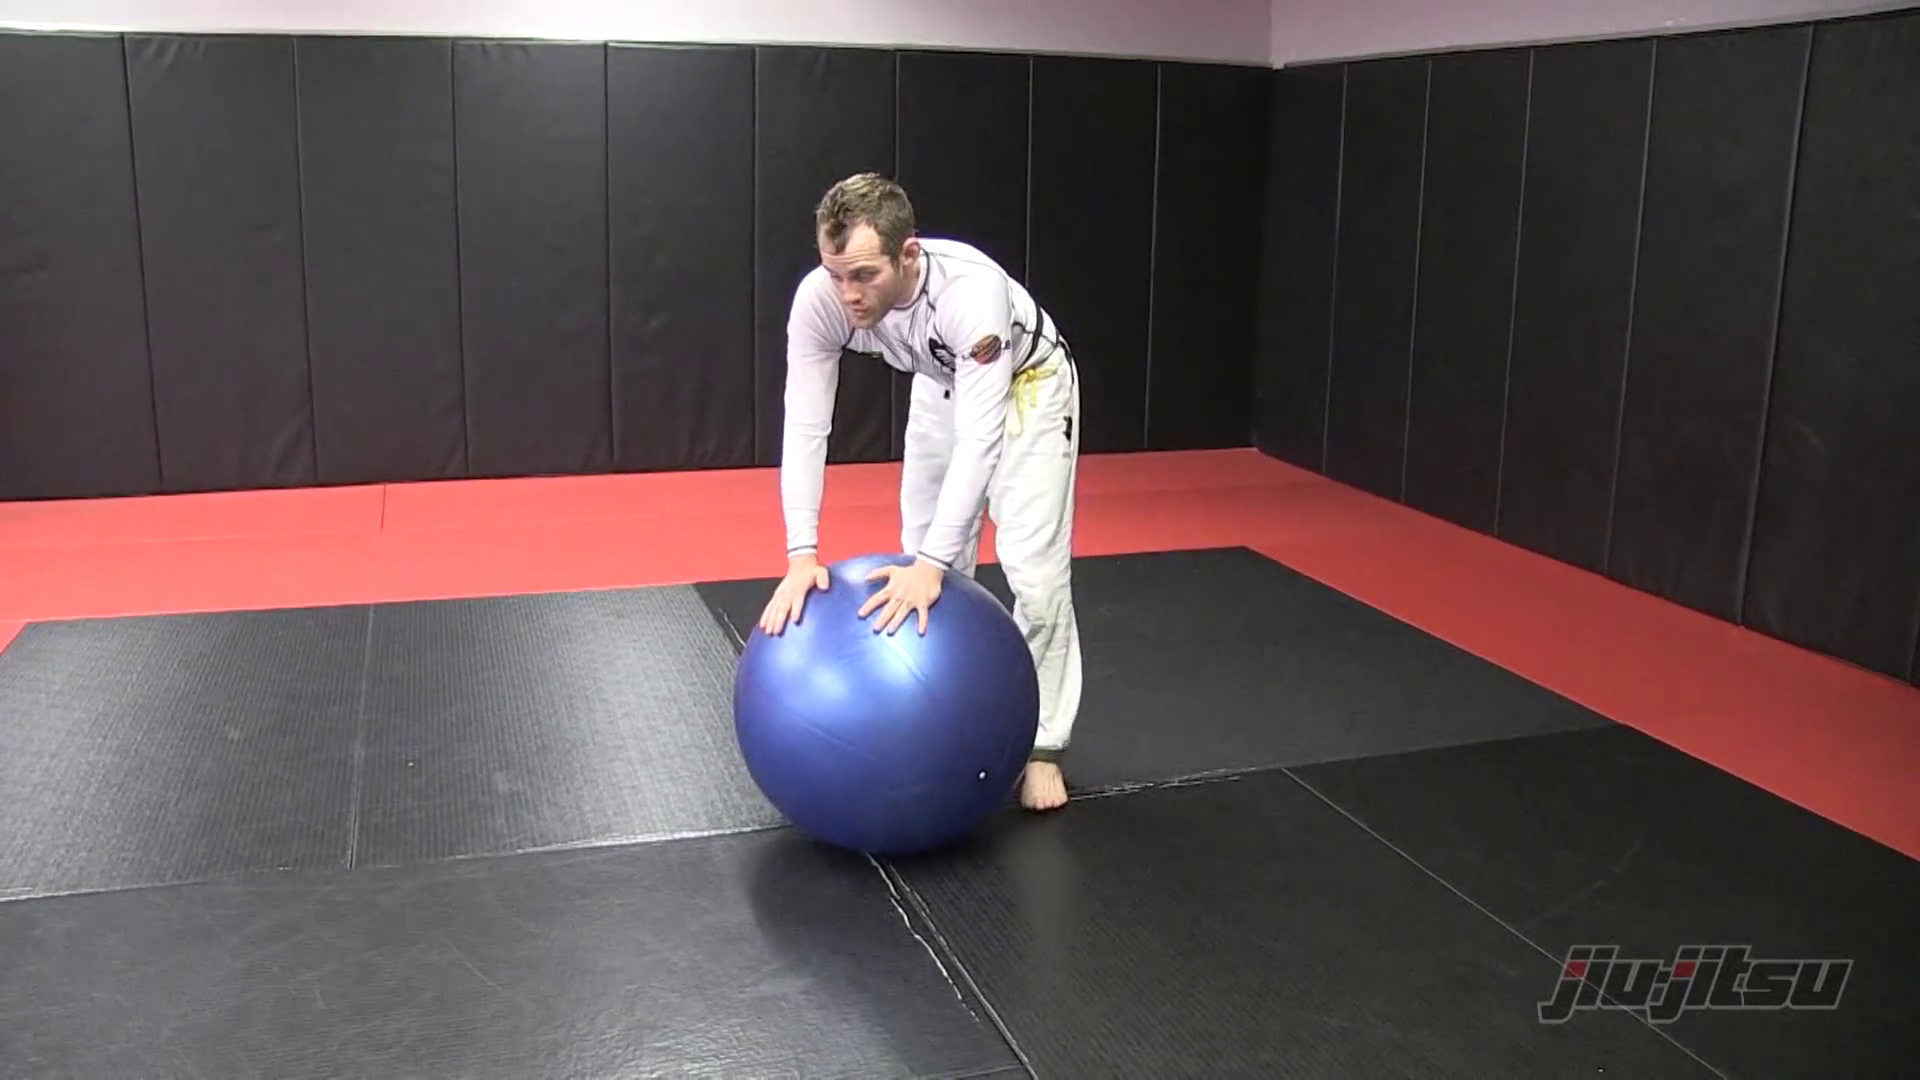yogaball: (727, 556, 1058, 860)
